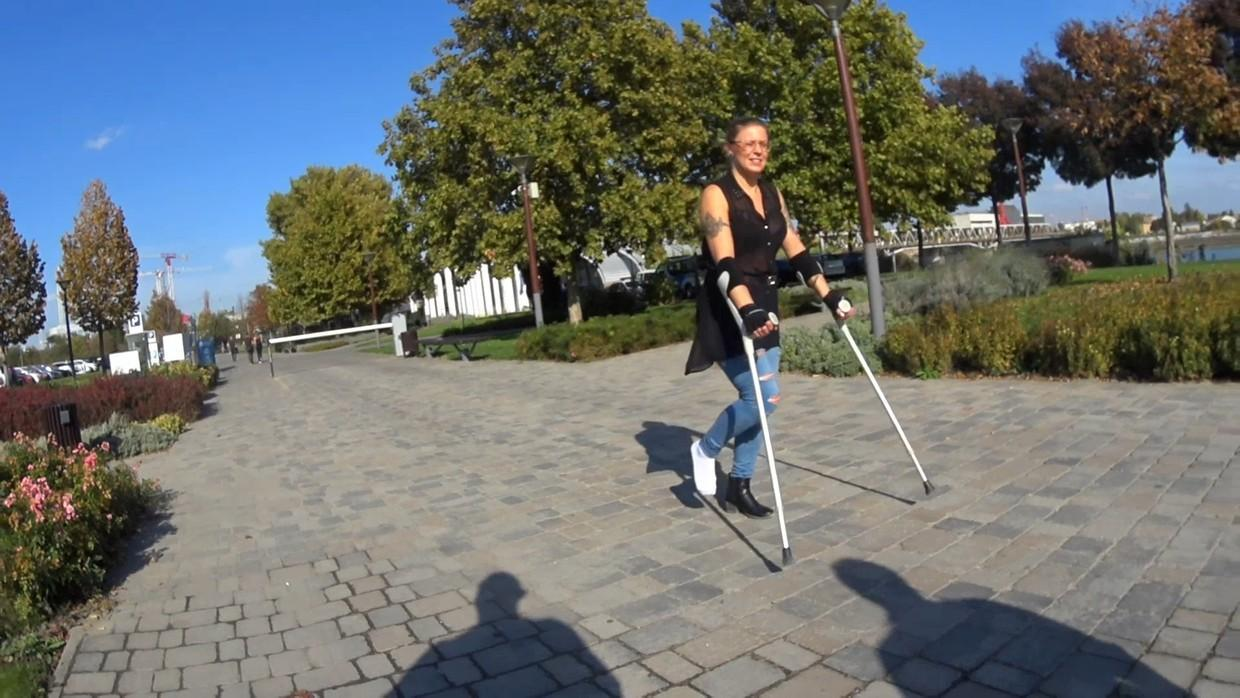crutches: (684, 120, 936, 566)
